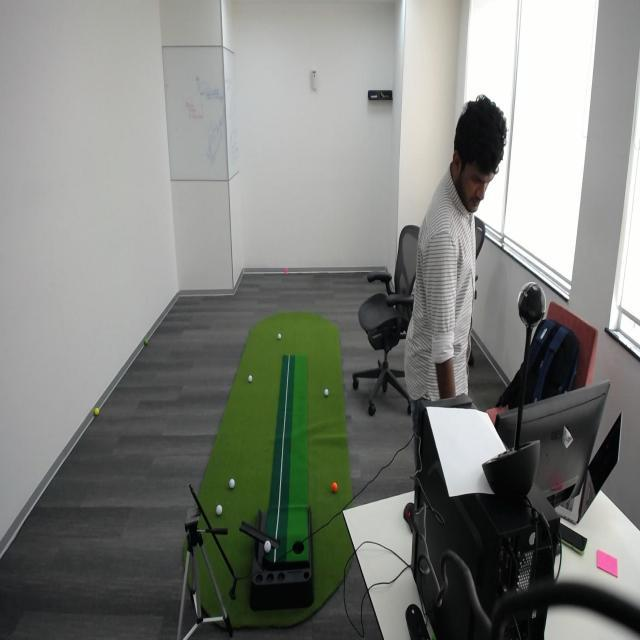GolfBall: (226, 471, 238, 498), (328, 474, 340, 500), (212, 500, 226, 522), (320, 384, 332, 401), (262, 537, 272, 556), (91, 404, 102, 421), (274, 329, 286, 344), (246, 370, 254, 388)
